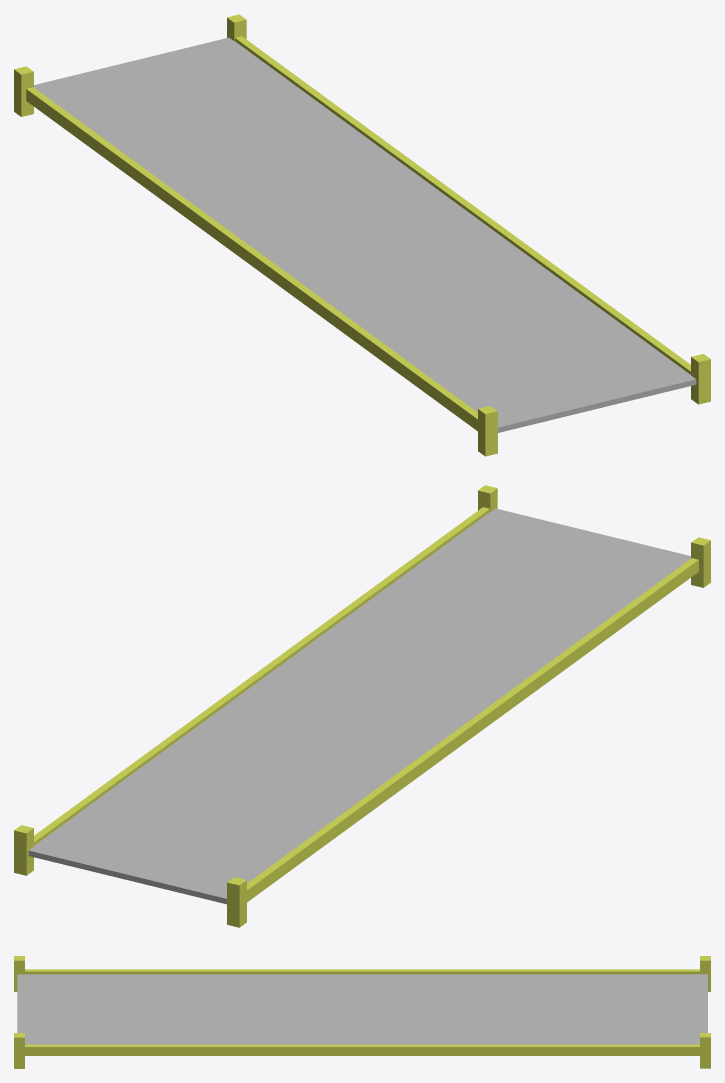
File: SM_Rack_400.fbx
The picture shows the model from 3 angles, top to bottom: view 1: azimuth 30°, elevation 25°; view 2: azimuth 150°, elevation 25°; view 3: azimuth 270°, elevation 25°; orthographic projection. The views are drawn at different scales.
Parts seen in each view (by area): view 1: SM_Rack_400; view 2: SM_Rack_400; view 3: SM_Rack_400.
Part boxes in pixels (x1,y1,x2,y2): SM_Rack_400: (14, 14, 710, 456); SM_Rack_400: (14, 485, 710, 927); SM_Rack_400: (14, 956, 710, 1068).
Size of the model in its own units: 112 by 20 by 403.
